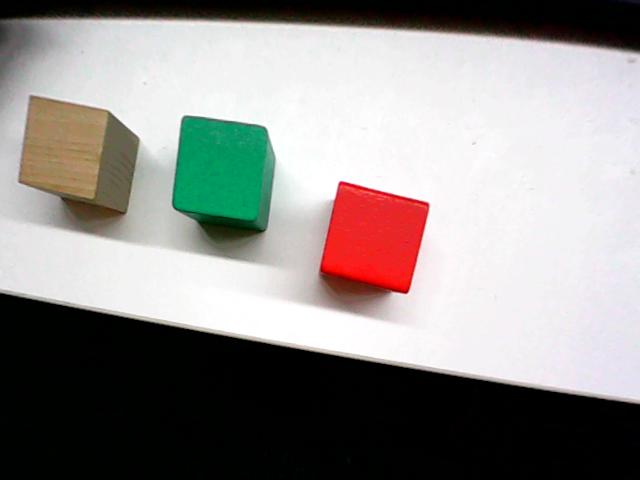green_box: (169, 110, 278, 234)
raw_box: (13, 87, 146, 228)
red_box: (316, 176, 432, 297)
